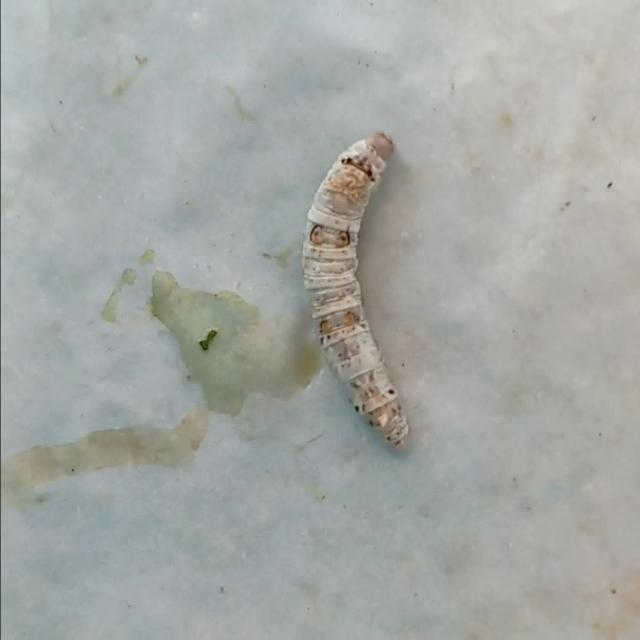Grasserie: (283, 107, 425, 470)
